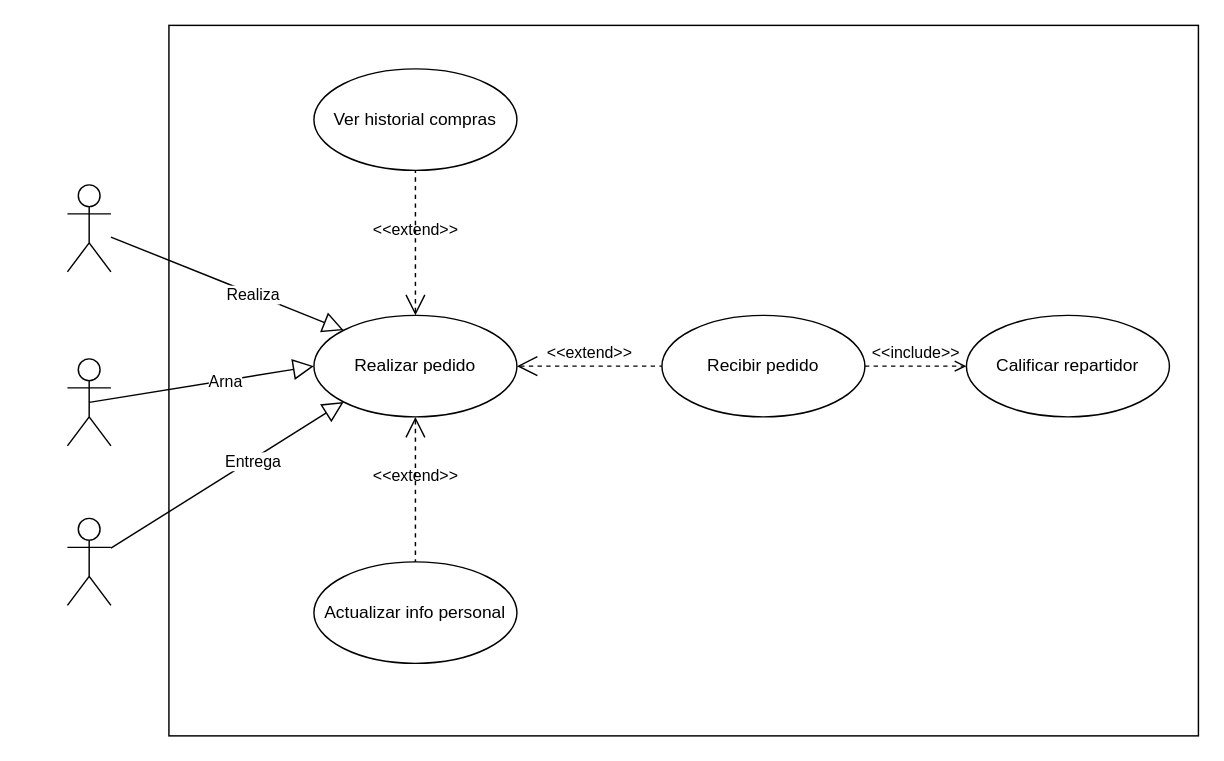
This 1224x761 diagram has some shape labels left out. Each missing label, with the centre of its shape:
"Empleado Super" goes at point (88, 401).
"Repartidor" goes at point (88, 561).
"Usuario" goes at point (88, 227).
